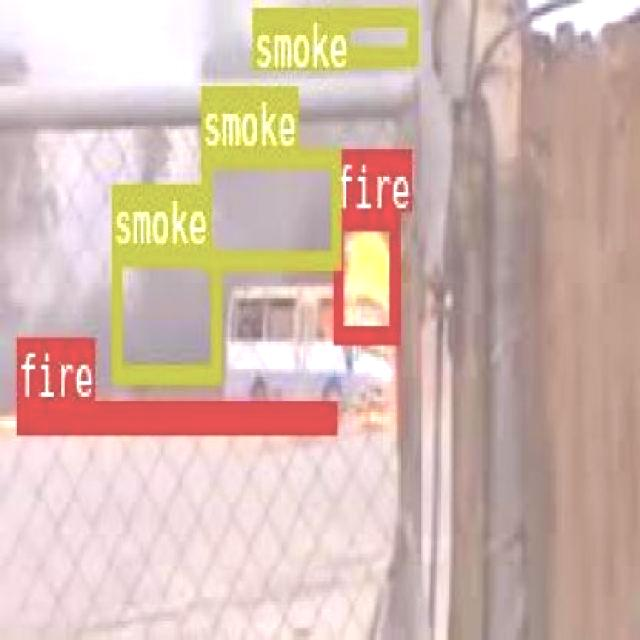fire: (15, 398, 334, 430), (333, 210, 396, 338)
smoke: (200, 149, 340, 265), (112, 246, 220, 377), (250, 5, 416, 60)
